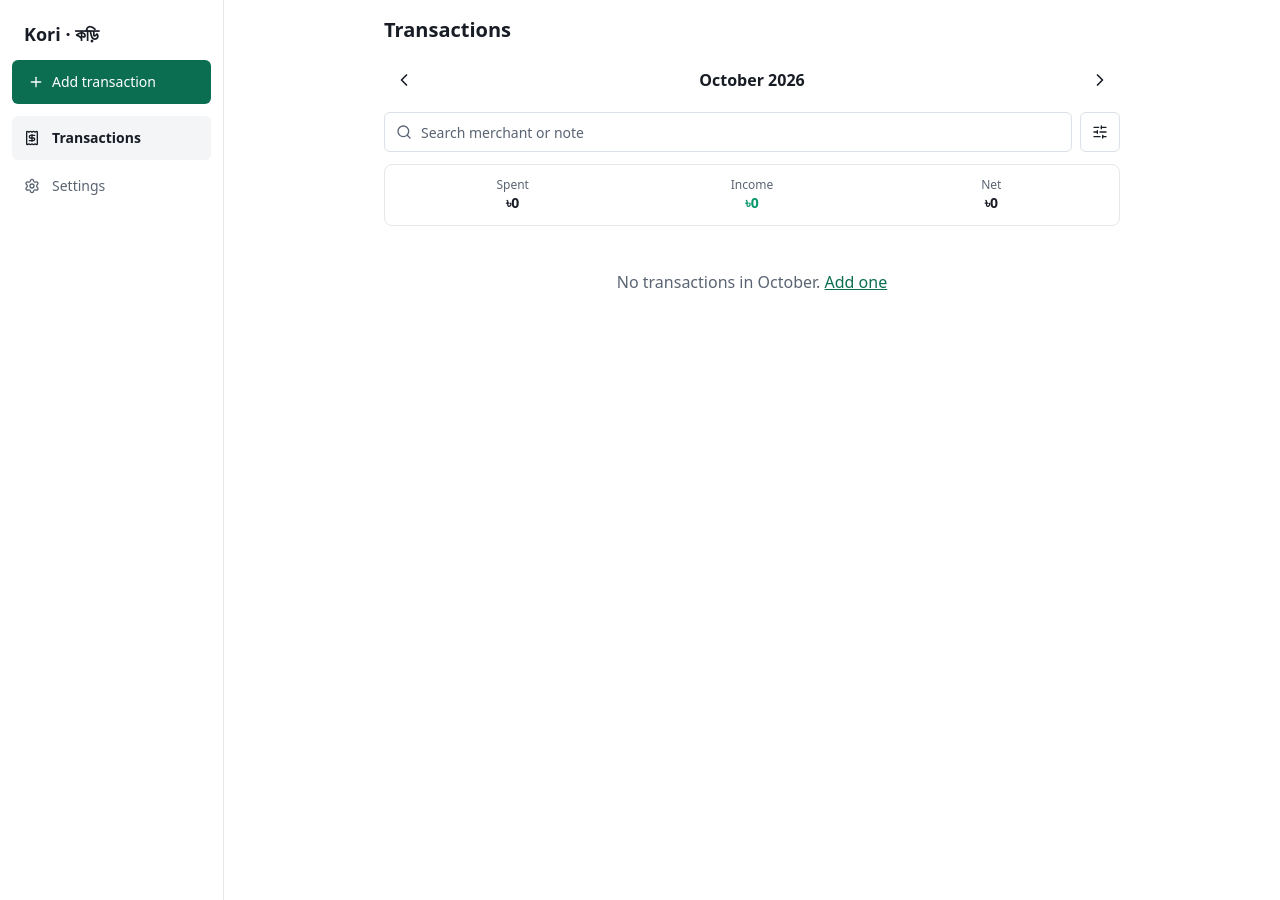
it: transaction form › shows a server 422 under the matching field
The image size is (1280, 900).
Click the button "Add transaction".
click(112, 82)  # box [12,60,211,104]
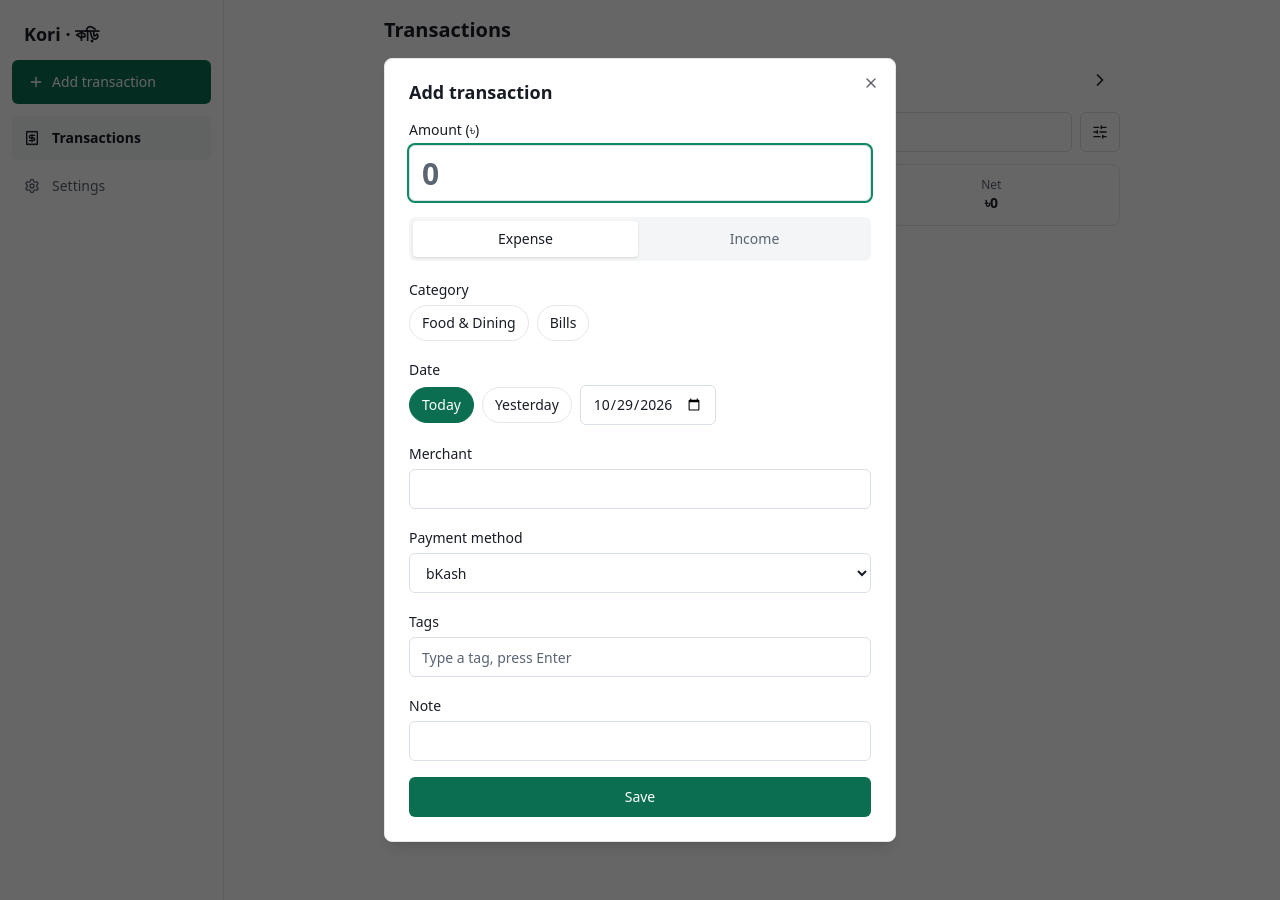
Type "10" into the field labelled "Amount (৳)".
click(640, 173); type("10")  # box [409,145,871,201]
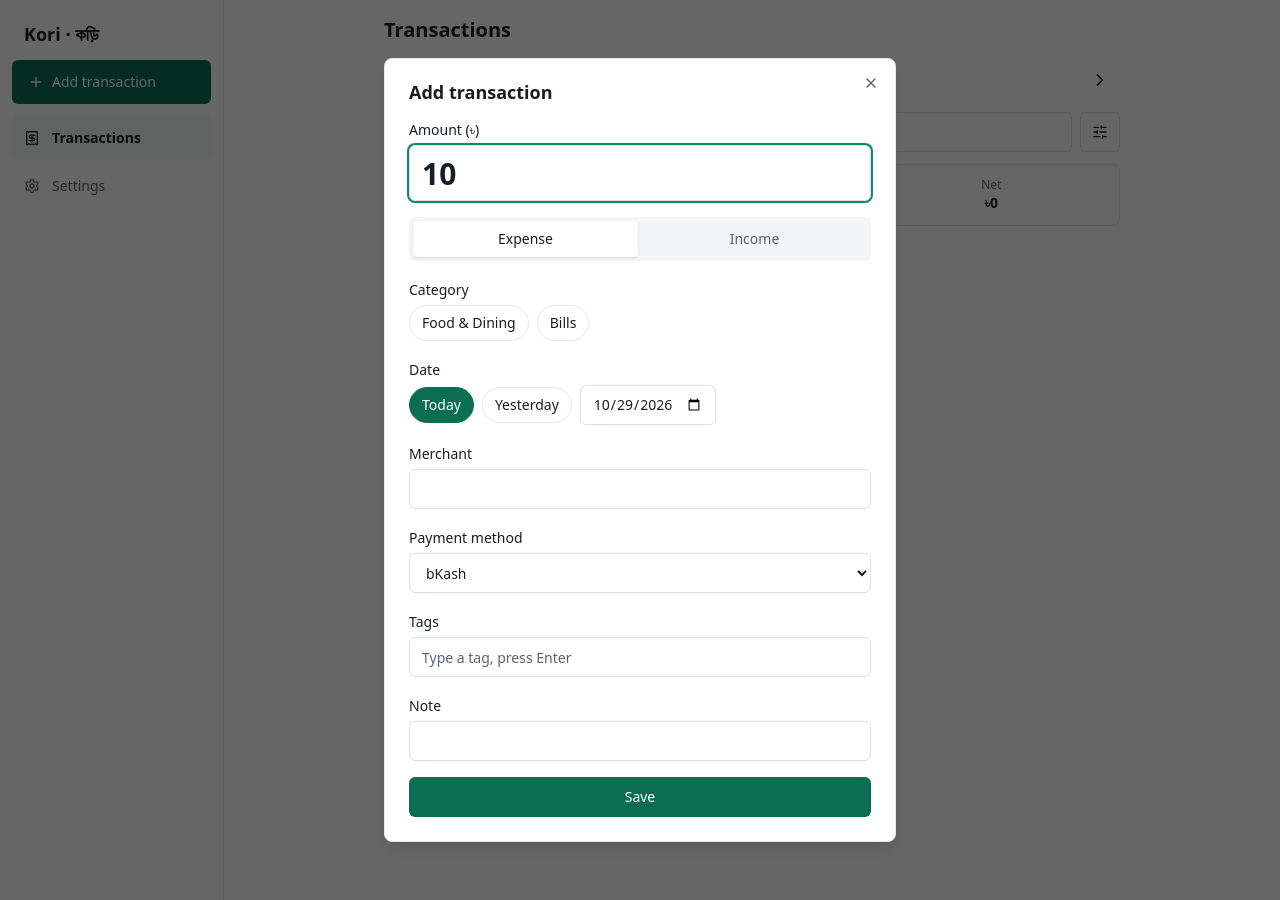
Click the radio button labelled "Bills".
click(563, 323)  # box [537,305,589,341]
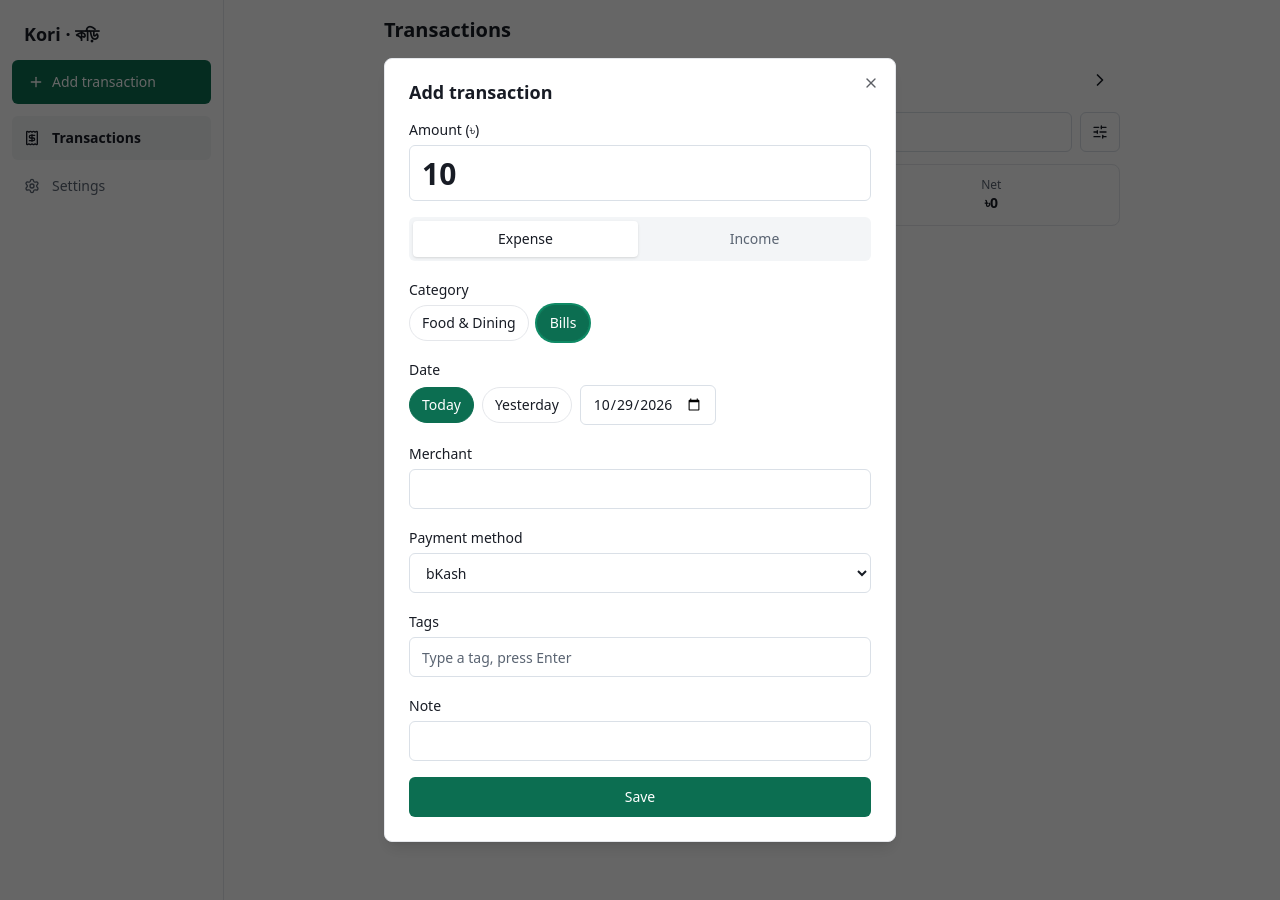
Click the button "Save".
click(640, 797)  # box [409,777,871,817]
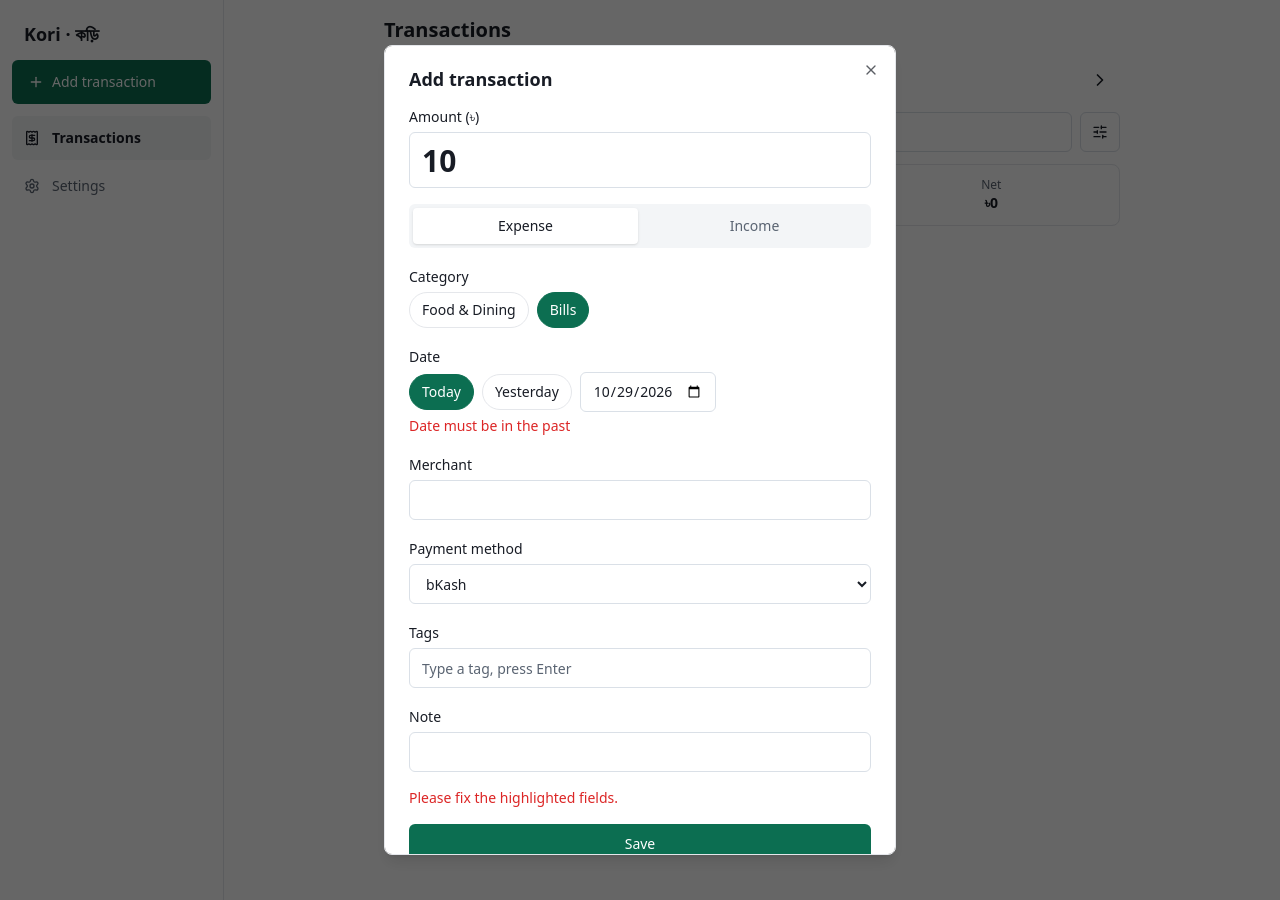
Result: the text "Date must be in the past" is shown at [409,416,570,435]
